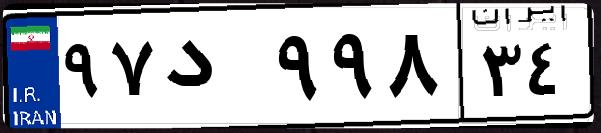3: (475, 38, 525, 113)
4: (525, 38, 570, 115)
7: (110, 28, 158, 98)
8: (385, 28, 445, 110)
9: (270, 28, 330, 110), (330, 28, 385, 110), (57, 26, 110, 100)
د: (158, 20, 270, 120)
